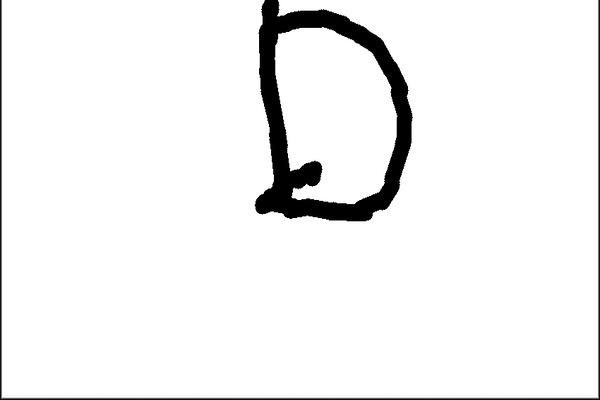D: (238, 0, 425, 231)
